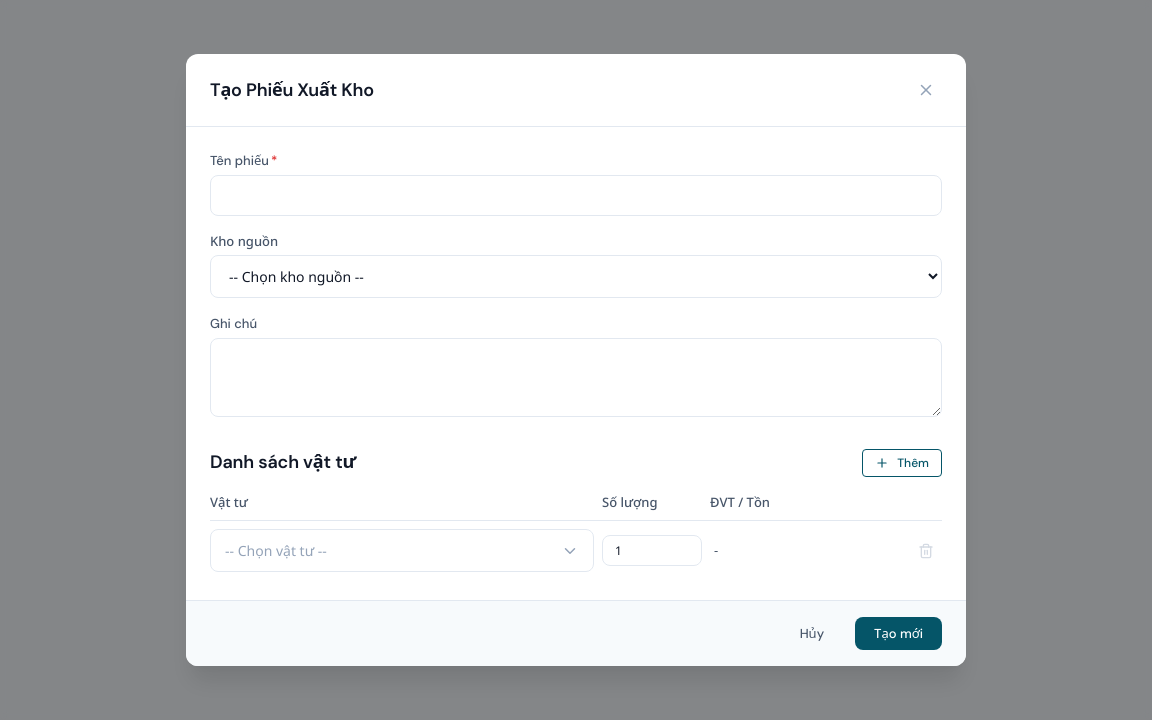
StockEntryForm › shows error when stock issue lacks inventory
The width and height of the screenshot is (1152, 720).
Type "PX001" into the field labelled "Tên phiếu*". click: (576, 195)
box: [210,174,942,216]
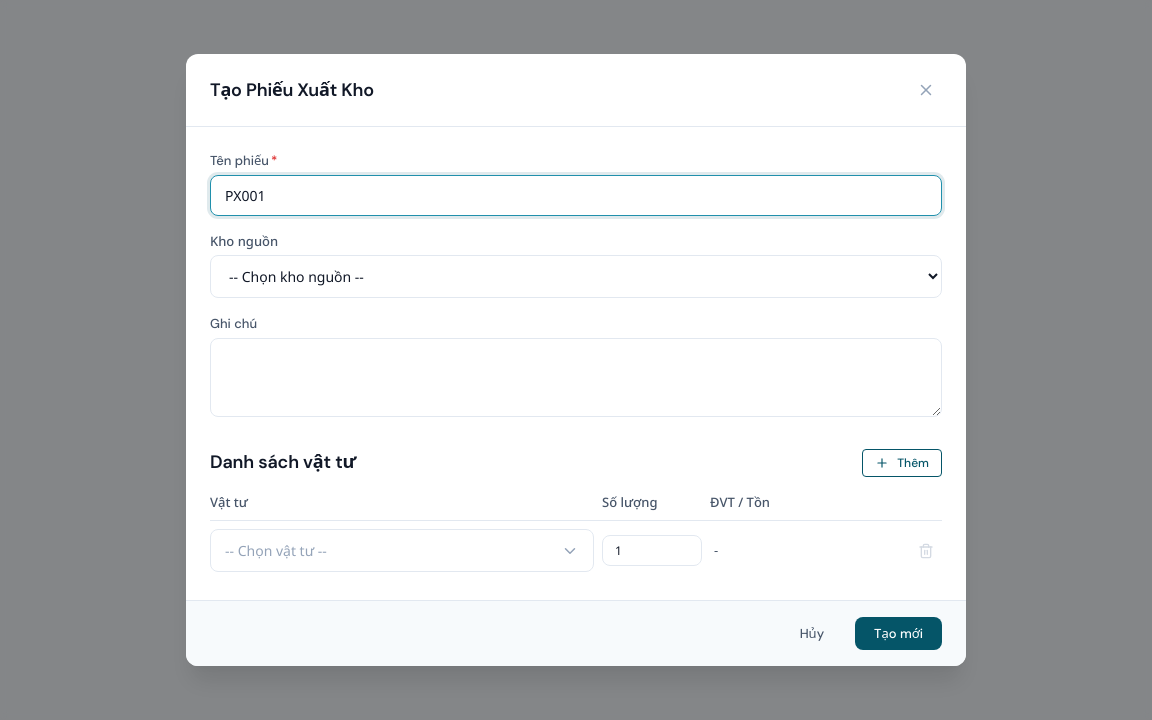
Select "Kho 1" in the dropdown labelled "Kho nguồn". click: (576, 276)
box: [210,255,942,298]
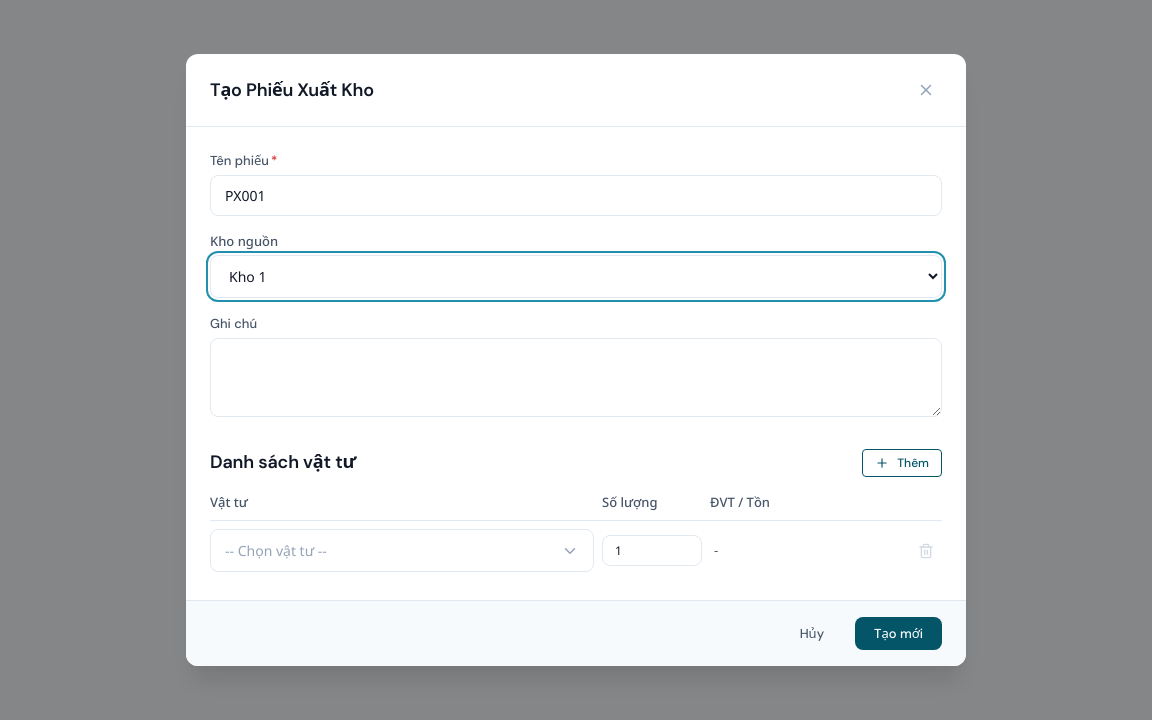
Click the dropdown named "Mã vật tư". click: (402, 550)
box: [210,529,594,572]
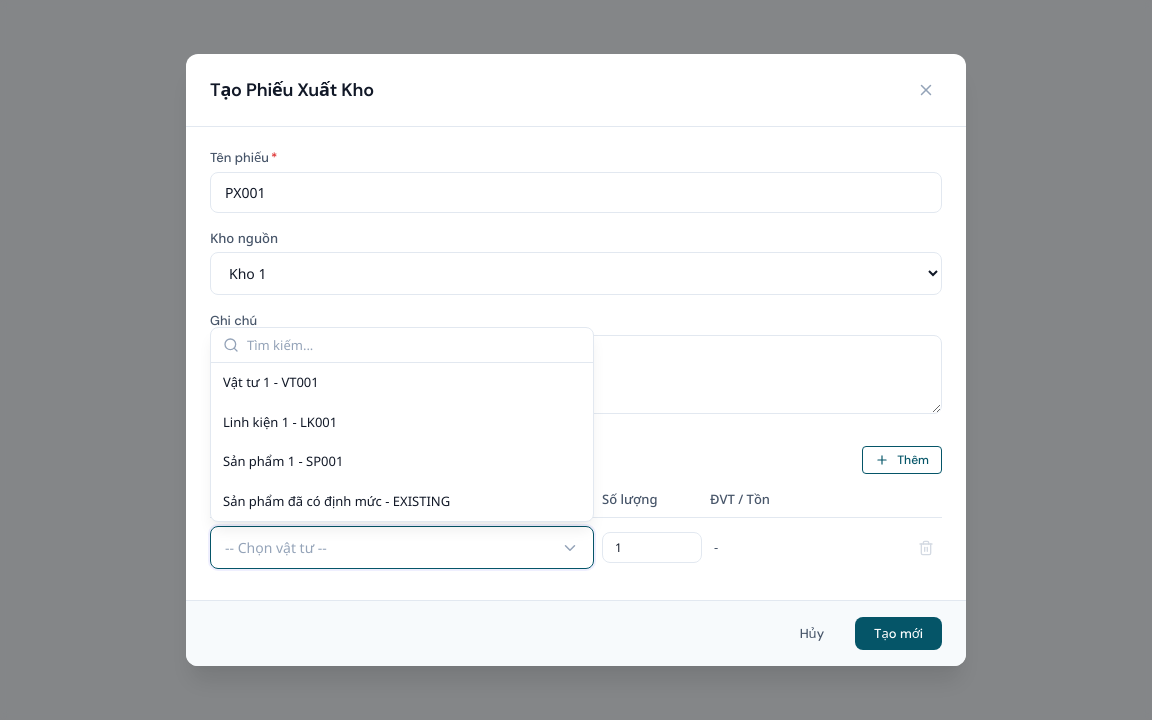
Click the option "Vật tư 1 - VT001". click: (271, 382)
box: [223,373,319,391]
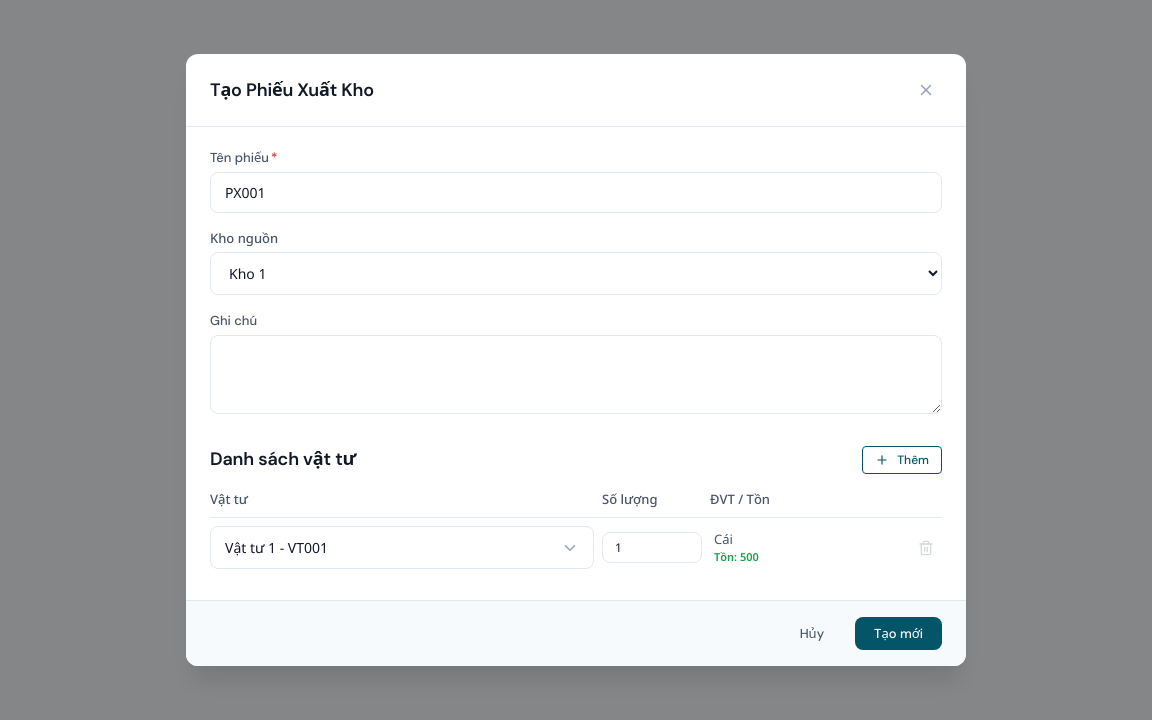
Type "0000" into the number field. click: (652, 548)
box: [602,532,702,563]
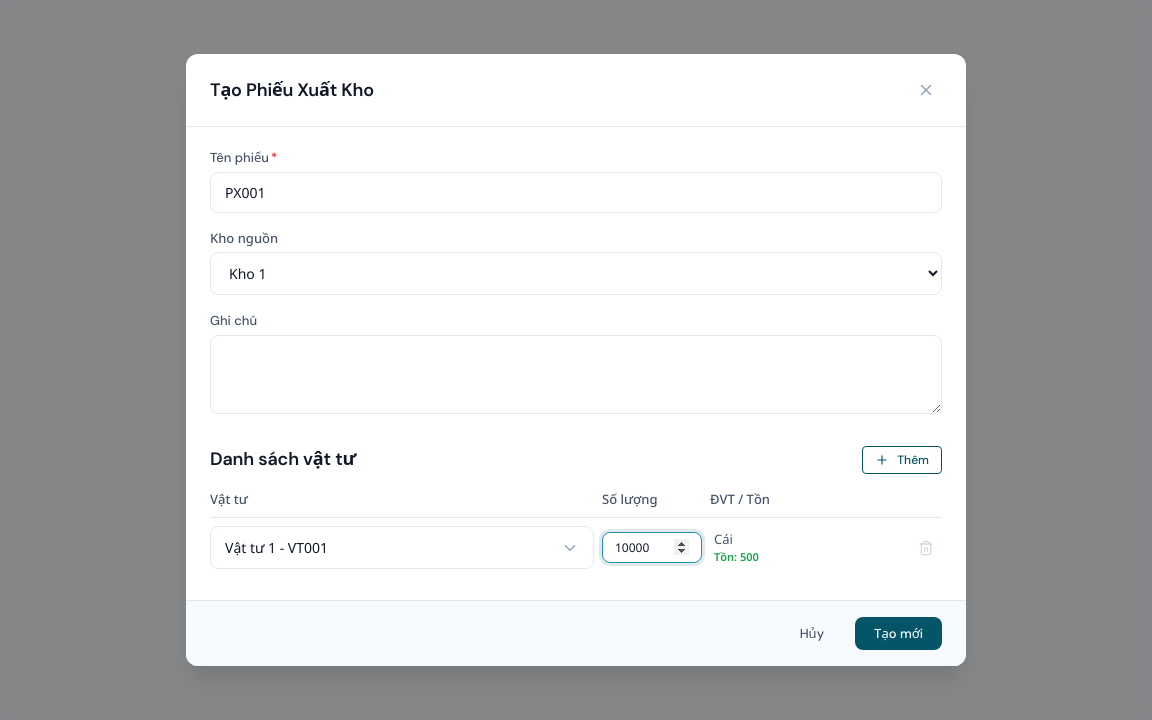
Click the button "Tạo mới". click: (899, 634)
box: [855,617,942,650]
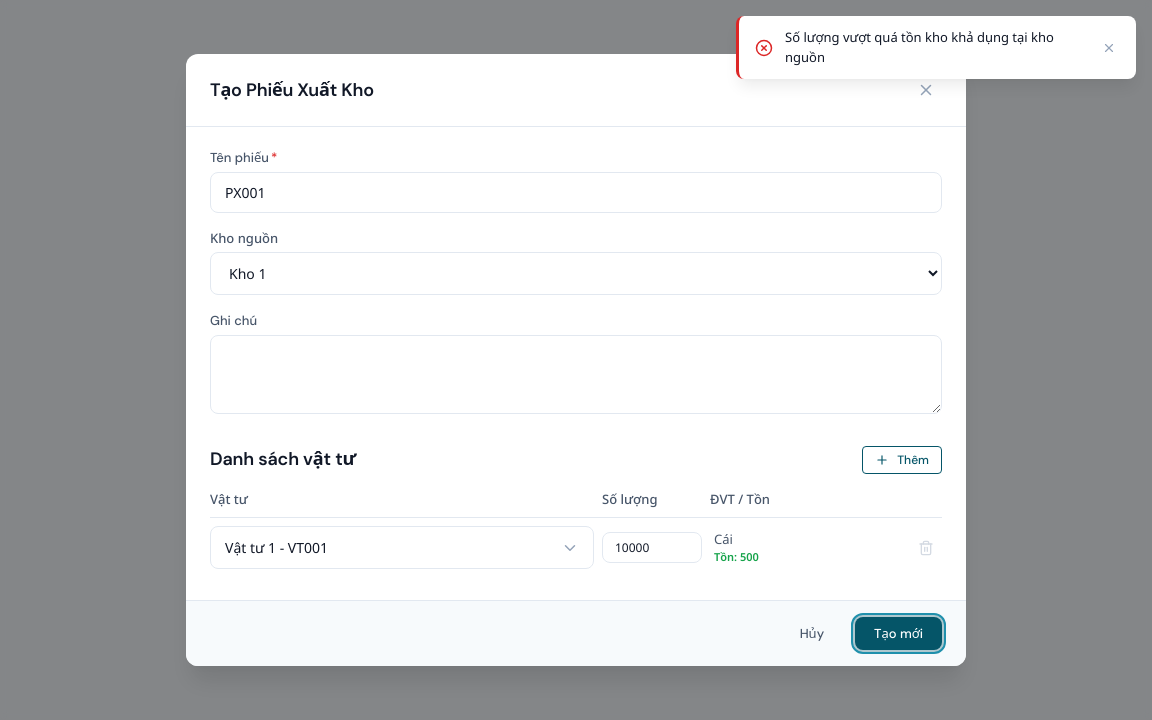
Expected: the text "Số lượng vượt quá tồn kho khả dụng tại kho nguồn" is shown, [785,28,1086,67]
